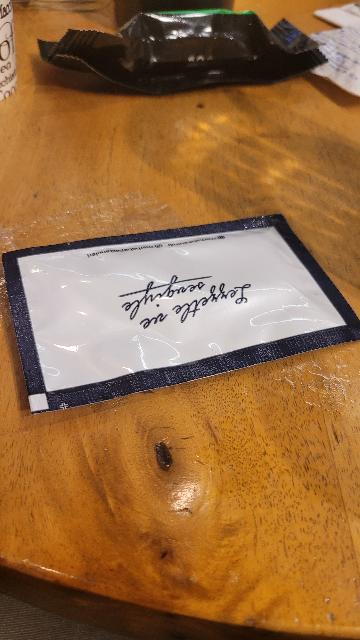Plastik: (5, 213, 360, 429)
